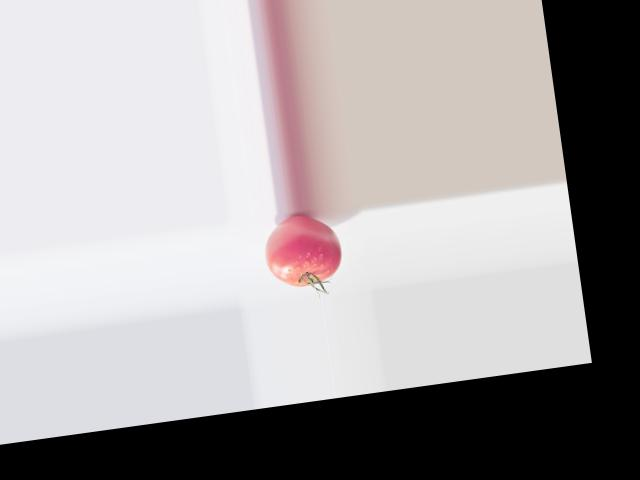tomato: (259, 210, 344, 289)
